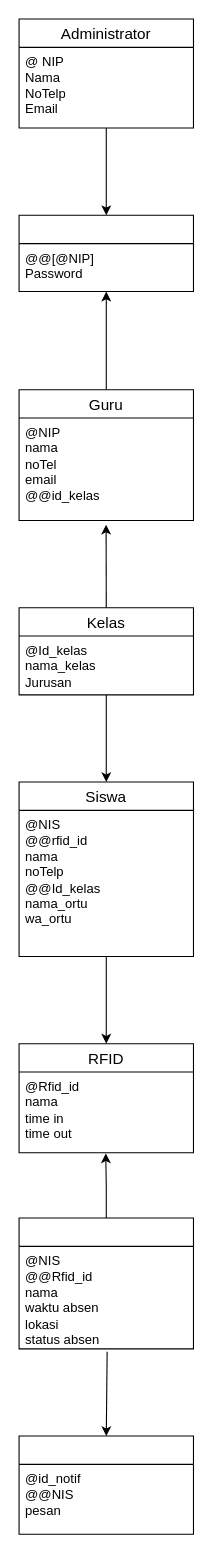
Some shapes in this 213 by 1557 pixel diagram are drawn without their labels. The box of each missing label's shape, as (x1, y1, x2, y2) in pixels:
Absensi: (18, 1217, 193, 1349)
Login: (18, 214, 193, 292)
Notifikasi: (18, 1435, 193, 1534)
